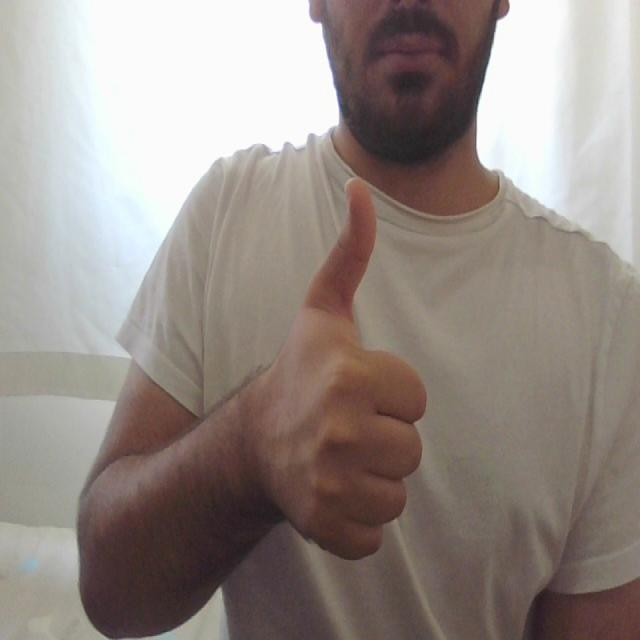Tamam: (251, 166, 430, 565)
